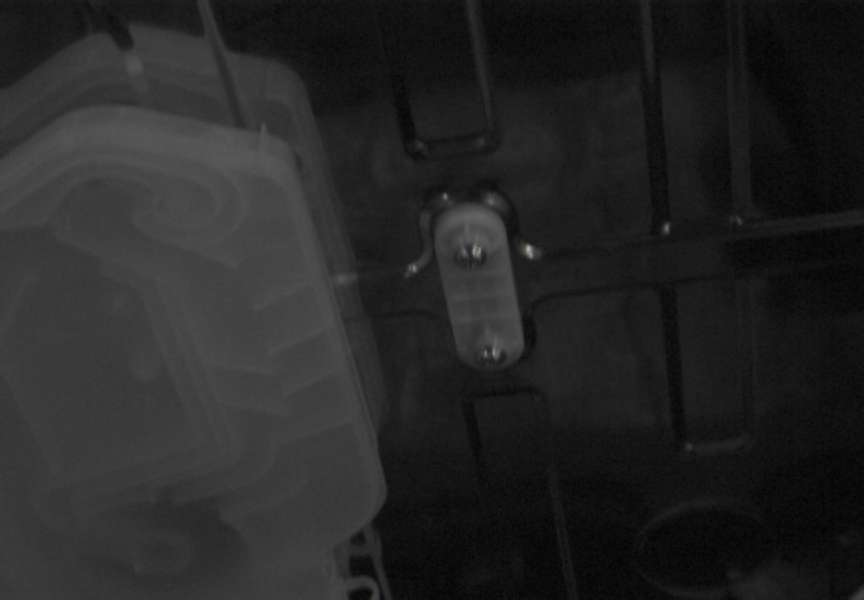screw: (453, 242, 487, 270), (476, 344, 507, 368)
